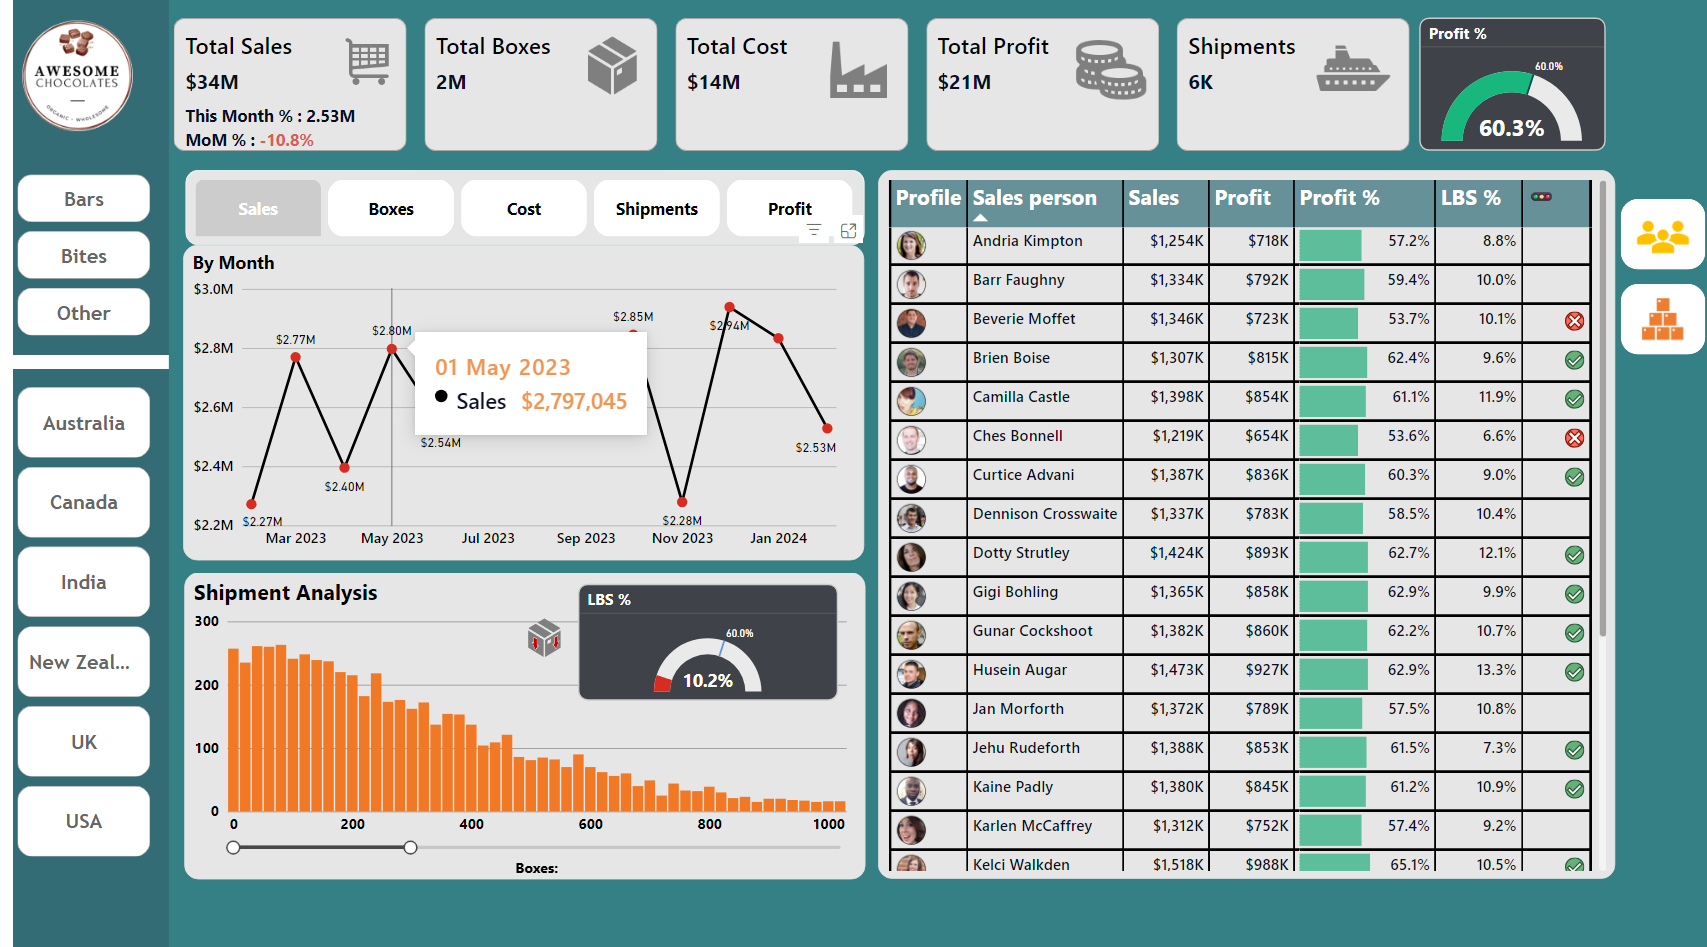

The page's visual inventory and layout, read from the dashboard file:
{"tool":"powerbi","page":{"name":"Sales","canvas":[1920,1080],"ordinal":0},"visuals":[{"type":"shape","box":[0,0,170,1080],"z":0},{"type":"lineChart","fields":{"Y":["_measures.Total Sales"],"Category":["calendar.Start of Month"]},"box":[187.5,297.9,790,367.1],"z":0,"group":"g1"},{"type":"columnChart","title":"Total Shipments by Boxes","fields":{"Category":["shipments.Boxes (bins)"],"Y":["_measures.Total Shipments"]},"box":[187.5,687.5,790,370],"z":0,"group":"g2"},{"type":"cardVisual","title":"KPI Card","fields":{"Data":["_measures.Total Sales","_measures.Total Boxes","_measures.Total Shipments","_measures.Total Cost","_measures.Total Profit"]},"box":[187.5,17.5,1450,187.5],"z":1000},{"type":"advancedSlicerVisual","fields":{"Values":["Measure Selector.Measure Selector"]},"box":[244.8,227.5,690.6,71.9],"z":1000,"group":"g1"},{"type":"gauge","fields":{"Y":["_measures.LBS %"]},"box":[779.3,704.2,182.6,121.7],"z":1000,"group":"g2"},{"type":"gauge","title":"Profit % Gauge","fields":{"Y":["_measures.Profit %"]},"box":[1650,22,248,174],"z":2000},{"type":"image","box":[684.4,725.8,94.9,80],"z":2000,"group":"g2"},{"type":"image","title":"Logo","box":[20,22.5,150,182.5],"z":3000},{"type":"group","id":"g1","title":"Group 1","box":[187.5,227.5,790,437.5],"z":4000},{"type":"group","id":"g2","title":"Group 2","box":[187.5,687.5,790,370],"z":5000},{"type":"tableEx","title":"People Table","fields":{"Values":["people.Picture","people.Sales person","_measures.Total Sales","_measures.Total Profit","_measures.Profit %","_measures.LBS %","_measures.Profit Target Indicator"]},"box":[1006,228,786,830],"z":6000},{"type":"image","title":"People","box":[1802.5,242.5,105,120],"z":8000},{"type":"image","title":"Product","box":[1802.5,380,117.5,132.5],"z":9000},{"type":"advancedSlicerVisual","title":"Category slicer","fields":{"Values":["products.Category"]},"box":[8.8,228.8,152.5,267.5],"z":10000},{"type":"advancedSlicerVisual","title":"Location slicer","fields":{"Values":["locations.Geo"]},"box":[6,564,154,436],"z":11000},{"type":"shape","box":[12,502,148,58],"z":12000}]}

Visuals, with their boxes in screenshot pixels (x1, y1, x2, y2), scaled from the page's 1920x1080 canvas onto the 1707x947 screenshot:
shape: (x1=0, y1=0, x2=151, y2=946)
lineChart - _measures.Total Sales x calendar.Start of Month: (x1=167, y1=261, x2=869, y2=583)
"Total Shipments by Boxes" columnChart: (x1=167, y1=603, x2=869, y2=927)
"KPI Card" cardVisual: (x1=167, y1=15, x2=1456, y2=180)
advancedSlicerVisual - Measure Selector.Measure Selector: (x1=218, y1=199, x2=832, y2=263)
gauge - _measures.LBS %: (x1=693, y1=617, x2=855, y2=724)
"Profit % Gauge" gauge: (x1=1467, y1=19, x2=1687, y2=172)
image: (x1=608, y1=636, x2=693, y2=707)
"Logo" image: (x1=18, y1=20, x2=151, y2=180)
"Group 1" group: (x1=167, y1=199, x2=869, y2=583)
"Group 2" group: (x1=167, y1=603, x2=869, y2=927)
"People Table" tableEx: (x1=894, y1=200, x2=1593, y2=928)
"People" image: (x1=1603, y1=213, x2=1696, y2=318)
"Product" image: (x1=1603, y1=333, x2=1706, y2=449)
"Category slicer" advancedSlicerVisual: (x1=8, y1=201, x2=143, y2=435)
"Location slicer" advancedSlicerVisual: (x1=5, y1=495, x2=142, y2=877)
shape: (x1=11, y1=440, x2=142, y2=491)
